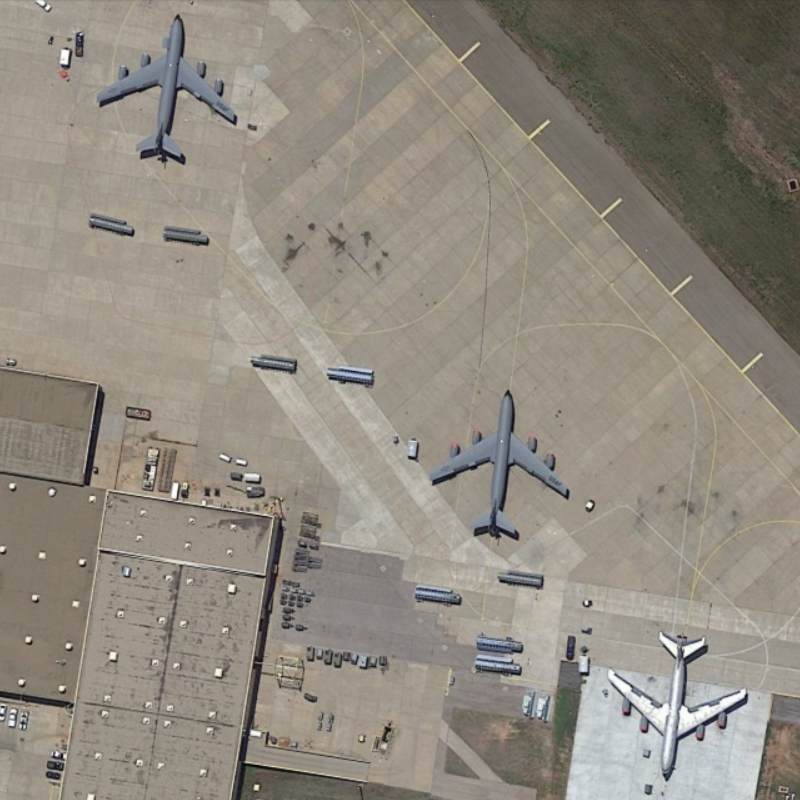A14: (599, 617, 755, 786), (93, 11, 251, 167), (426, 385, 577, 546)
